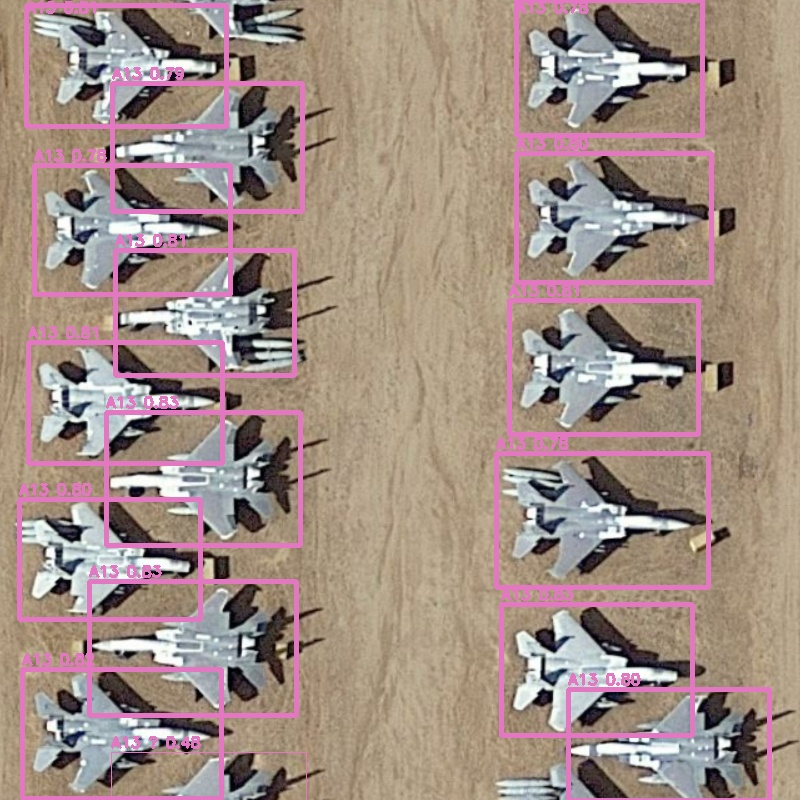A13: (496, 453, 708, 587), (89, 581, 296, 715), (106, 412, 300, 545), (22, 669, 221, 798), (509, 300, 698, 434), (34, 165, 230, 294), (516, 153, 711, 282), (516, 0, 702, 135), (501, 604, 692, 735), (112, 83, 302, 211), (26, 5, 226, 126), (28, 342, 222, 463), (115, 250, 294, 375), (568, 689, 769, 800), (19, 499, 200, 619), (111, 752, 306, 800)
